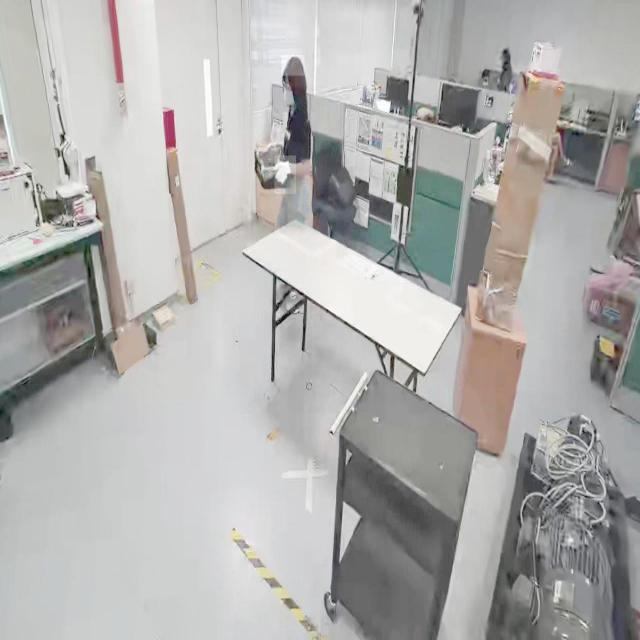face_mask: (282, 76, 295, 108)
hand_glove: (274, 156, 296, 194)
head_nohelmet: (281, 55, 305, 77)
person: (251, 56, 313, 229)
